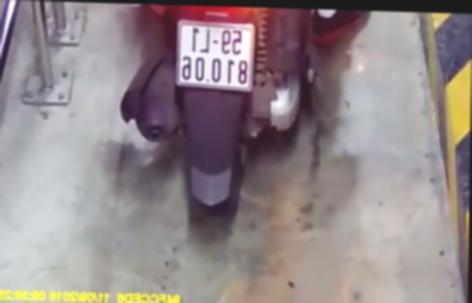License_Plate: (166, 17, 266, 92)
